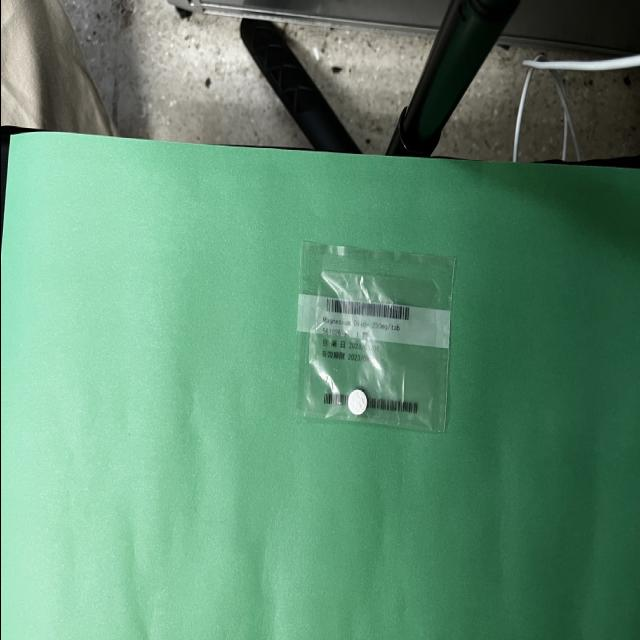Other Objects: (296, 242, 454, 430)
